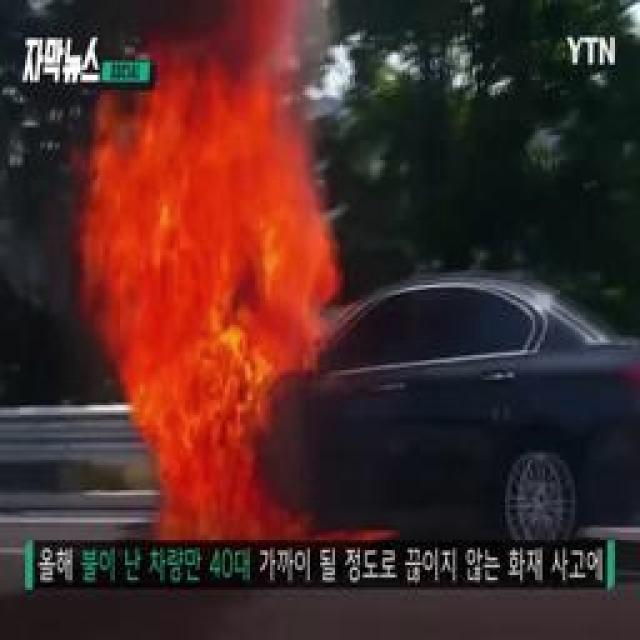Fire: (106, 90, 292, 544)
